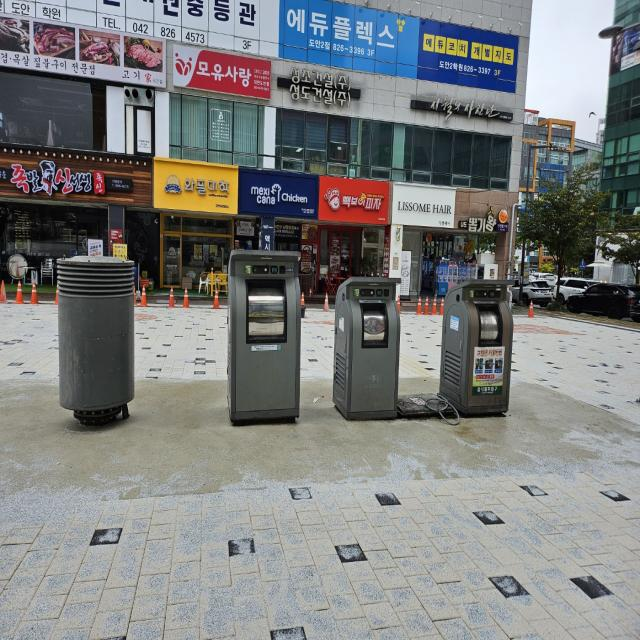CleanNet: (216, 244, 310, 433), (437, 268, 520, 428), (331, 265, 406, 432)
